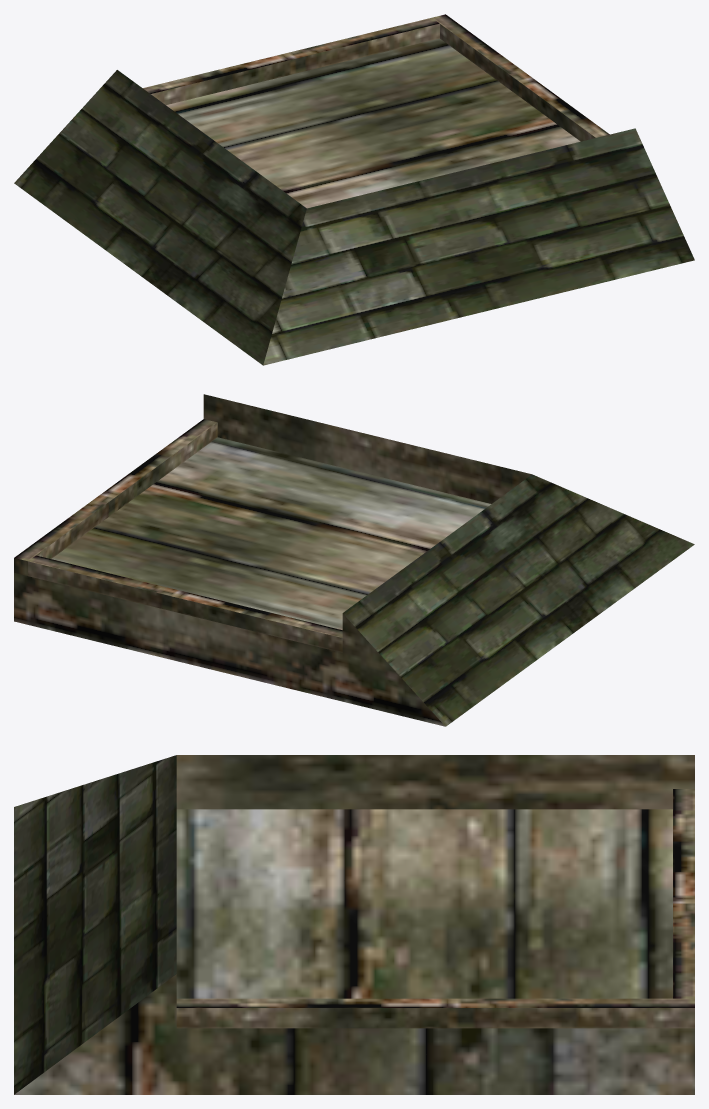
The picture shows the model from 3 angles, top to bottom: view 1: azimuth 30°, elevation 25°; view 2: azimuth 150°, elevation 25°; view 3: azimuth 270°, elevation 25°; orthographic projection. The views are drawn at different scales.
Visible parts, largest first — view 1: HouseWall05; view 2: HouseWall05; view 3: HouseWall05.
Part boxes in pixels (box(x1,y1,x2,y2)): HouseWall05: box(14, 14, 694, 365); HouseWall05: box(14, 394, 694, 726); HouseWall05: box(14, 755, 694, 1094).
Bounding box in the file's own units: 460 × 90.04 × 460.
